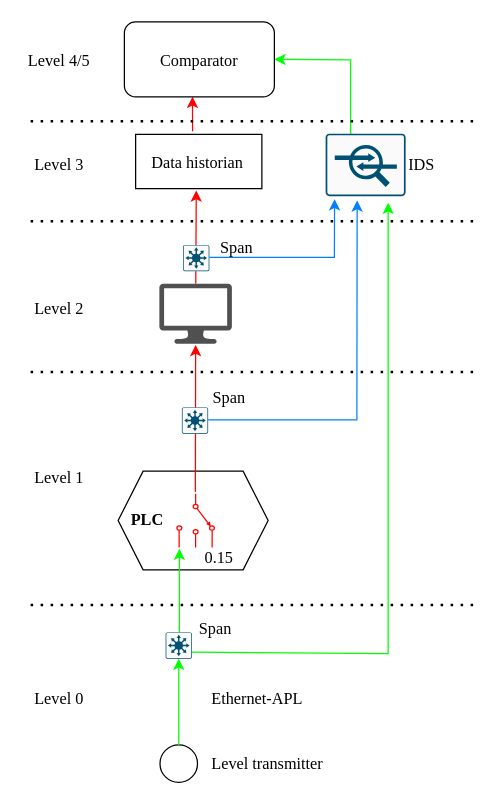
This 499x805 diagram has some shape labels left out. The shapes that lost their labels are listed below. From the top down, each one's centre as x and y in pixels, then its label:
At pixel 195 313: "HMI/ EWS".
At pixel 178 763: "LT".
